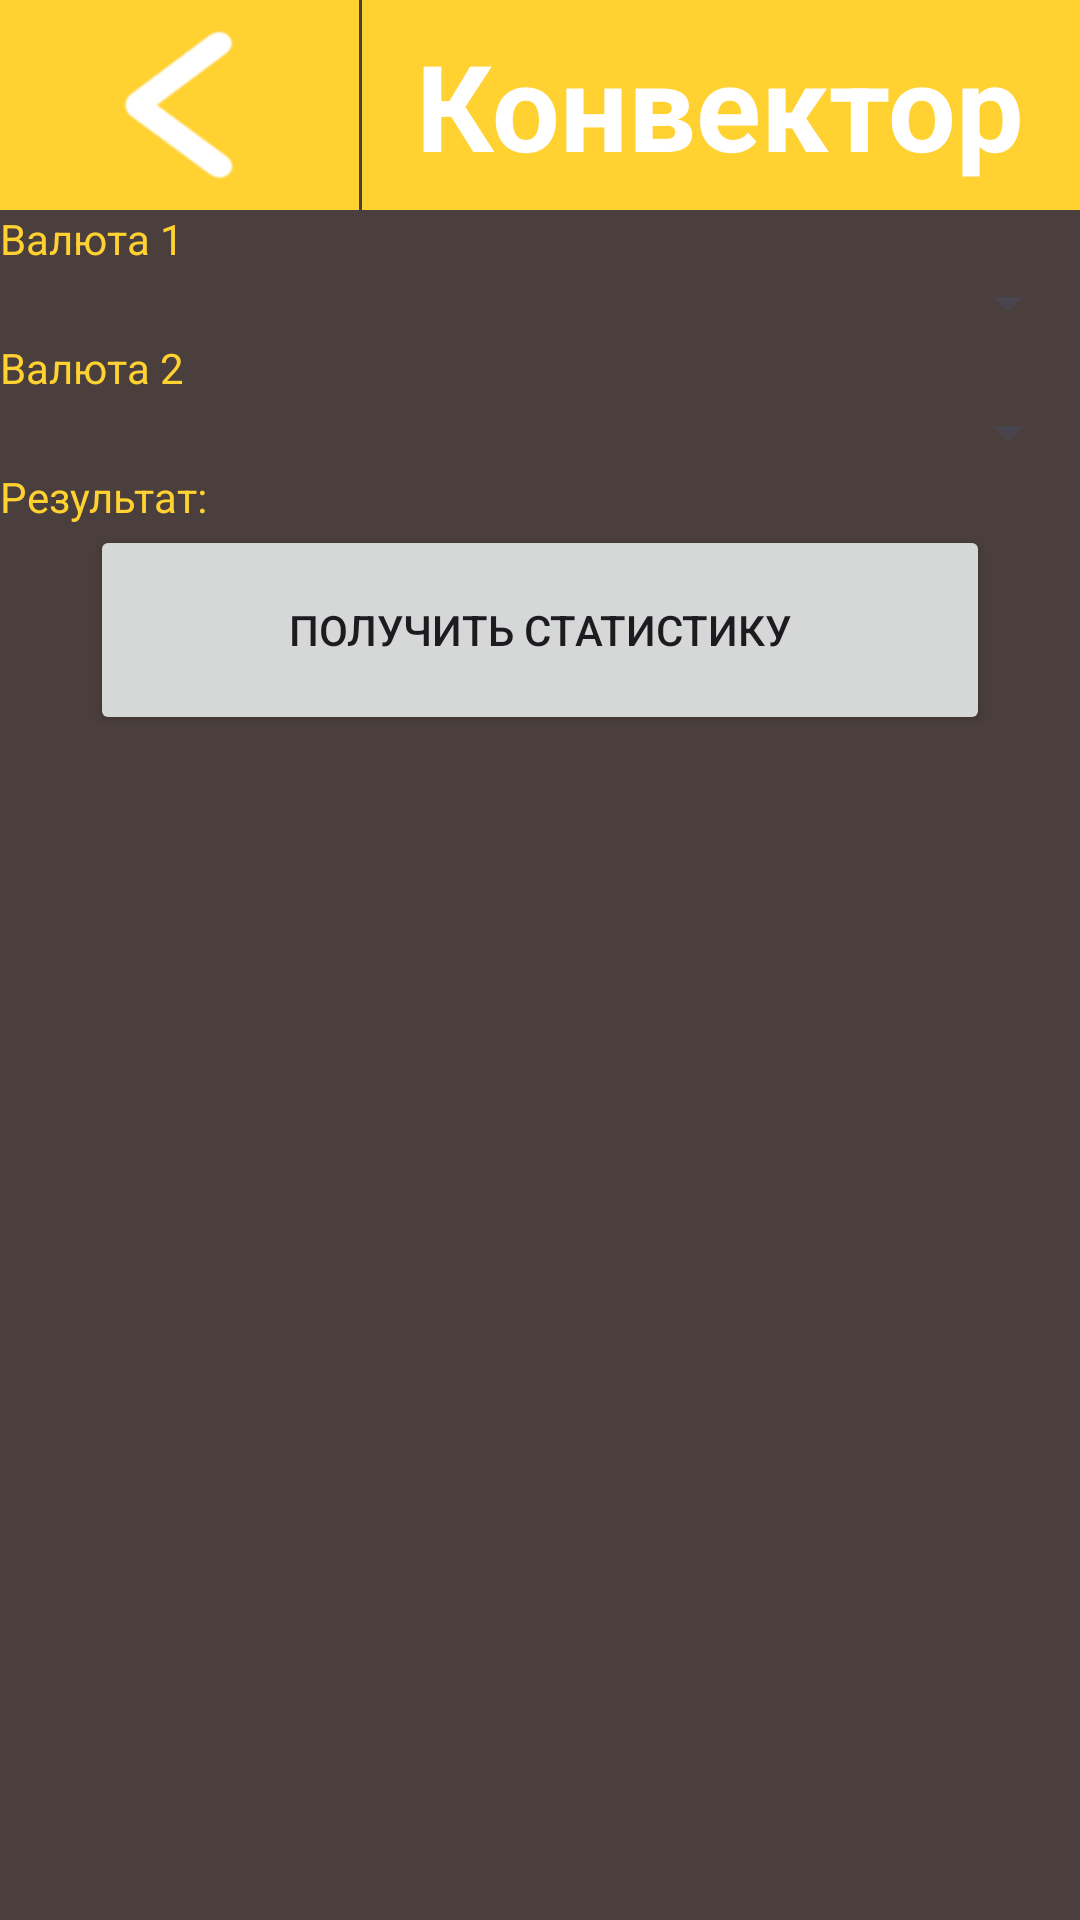

Point at icon controls on the screen. Image size 1080 x 1920, points as (x,y).
back: (178,105)
